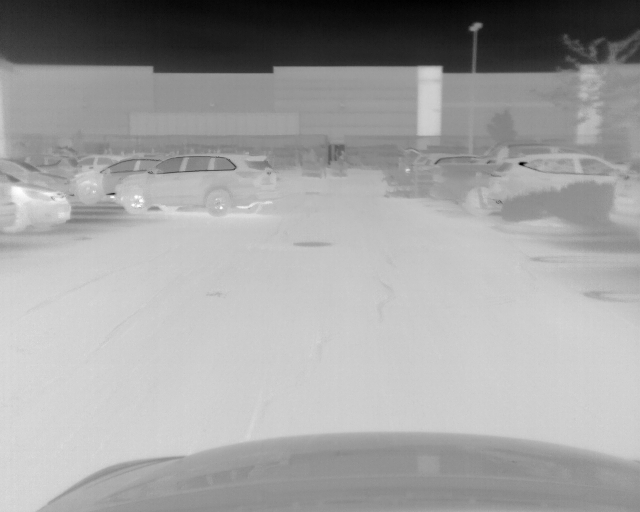car: (431, 144, 594, 214), (114, 153, 276, 217), (488, 155, 615, 208), (4, 171, 72, 232), (78, 156, 159, 205), (2, 158, 69, 194), (610, 155, 640, 229), (1, 173, 14, 228), (433, 152, 475, 164)
people: (317, 156, 328, 179), (336, 154, 346, 177)
